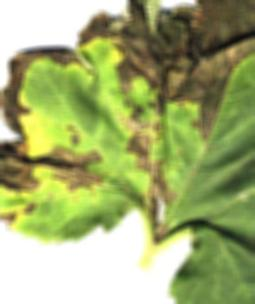Tomato leaf bacterial spot: (0, 0, 255, 244)
